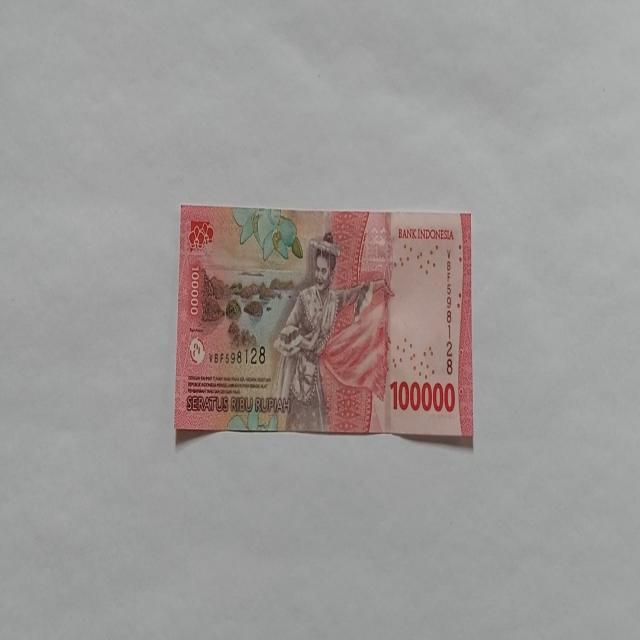seratus ribu rupiah: (174, 204, 474, 441), (270, 231, 388, 433)
